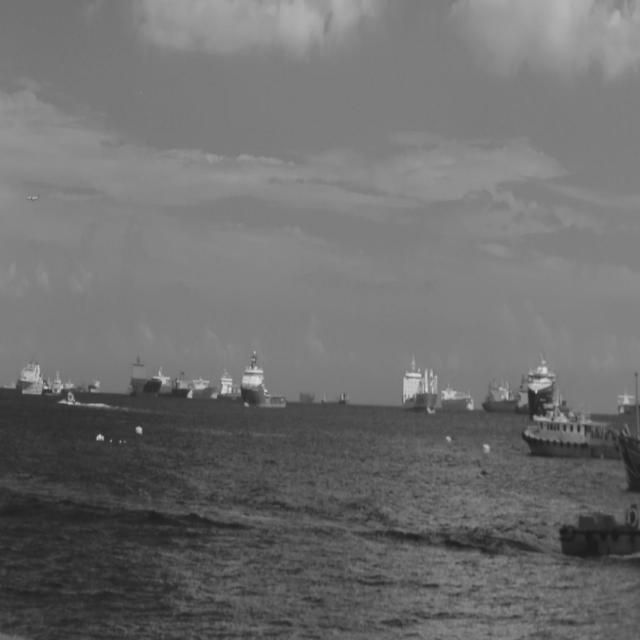buoy: (134, 424, 143, 436)
ship: (522, 386, 618, 460), (558, 501, 639, 560), (240, 345, 287, 408), (527, 348, 567, 420), (401, 353, 438, 414), (126, 354, 162, 398), (481, 371, 518, 412), (616, 430, 639, 493), (440, 381, 474, 411), (183, 372, 218, 400), (217, 363, 241, 401), (618, 386, 640, 416), (170, 368, 191, 396), (320, 391, 350, 407), (50, 368, 64, 396), (87, 376, 101, 393), (64, 388, 76, 406)
